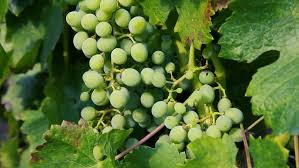grapes: (68, 7, 156, 135), (165, 67, 242, 146)
